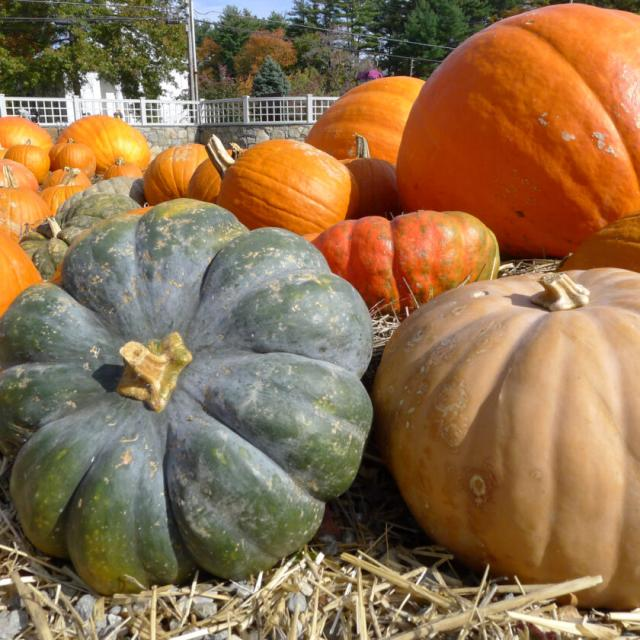pumpkin: (398, 5, 640, 257), (314, 210, 500, 313), (206, 135, 355, 234), (305, 76, 425, 163), (58, 115, 151, 173), (341, 135, 400, 218), (560, 211, 640, 272), (144, 144, 209, 205), (0, 165, 51, 239), (1, 230, 42, 316), (40, 169, 86, 216), (5, 139, 50, 184), (0, 116, 54, 152), (50, 138, 96, 178), (186, 159, 221, 203), (0, 159, 39, 192), (42, 166, 79, 189), (104, 158, 142, 179), (72, 171, 91, 187), (228, 142, 244, 159)
